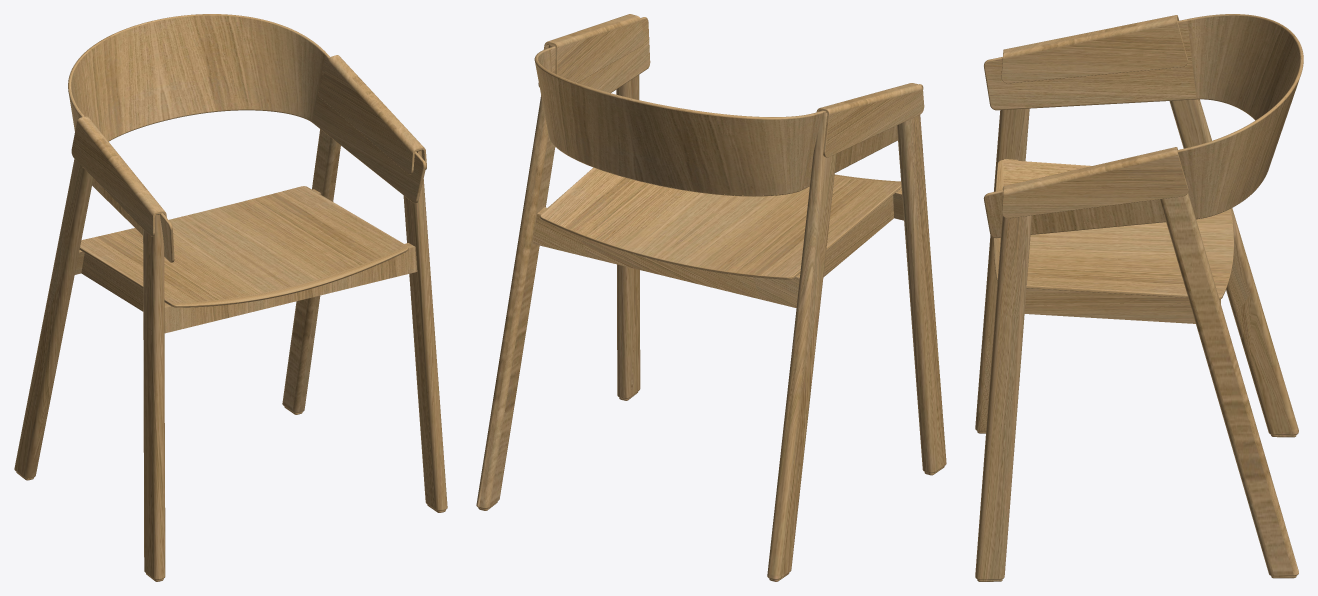
File: chair1.glb
The picture shows the model from 3 angles, left to right: view 1: azimuth 30°, elevation 25°; view 2: azimuth 150°, elevation 25°; view 3: azimuth 270°, elevation 25°; orthographic projection. The views are drawn at different scales.
Parts seen in each view (by area): view 1: Object_9, Object_6, Object_15, Object_14, Object_8, Object_11, Object_17, Object_7, Object_5, Object_23, Object_24, Object_21; view 2: Object_9, Object_17, Object_6, Object_8, Object_11, Object_7, Object_14, Object_21; view 3: Object_6, Object_10, Object_9, Object_14, Object_17, Object_8, Object_7, Object_18, Object_5, Object_20, Object_22.
Boxes of the visible parts, x1=… form: Object_9: x1=25, y1=21, x2=442, y2=510; Object_6: x1=15, y1=21, x2=447, y2=581; Object_15: x1=152, y1=15, x2=408, y2=250; Object_14: x1=71, y1=22, x2=435, y2=509; Object_8: x1=14, y1=21, x2=445, y2=579; Object_11: x1=34, y1=21, x2=426, y2=477; Object_17: x1=69, y1=15, x2=405, y2=410; Object_7: x1=16, y1=21, x2=444, y2=581; Object_5: x1=155, y1=153, x2=444, y2=579; Object_23: x1=290, y1=246, x2=407, y2=291; Object_24: x1=81, y1=54, x2=423, y2=305; Object_21: x1=68, y1=14, x2=325, y2=141; Object_9: x1=540, y1=18, x2=925, y2=473; Object_17: x1=490, y1=62, x2=828, y2=506; Object_6: x1=479, y1=14, x2=945, y2=580; Object_8: x1=479, y1=81, x2=946, y2=579; Object_11: x1=499, y1=21, x2=924, y2=499; Object_7: x1=476, y1=17, x2=944, y2=581; Object_14: x1=476, y1=16, x2=780, y2=579; Object_21: x1=536, y1=48, x2=816, y2=119; Object_6: x1=975, y1=15, x2=1302, y2=581; Object_10: x1=977, y1=21, x2=1295, y2=581; Object_9: x1=985, y1=15, x2=1302, y2=296; Object_14: x1=980, y1=15, x2=1300, y2=575; Object_17: x1=1174, y1=15, x2=1299, y2=434; Object_8: x1=975, y1=15, x2=1303, y2=579; Object_7: x1=977, y1=20, x2=1303, y2=581; Object_18: x1=1003, y1=18, x2=1200, y2=218; Object_5: x1=978, y1=216, x2=1005, y2=577; Object_20: x1=1187, y1=14, x2=1302, y2=148; Object_22: x1=1187, y1=59, x2=1303, y2=219.
Size of the model in its own units: 56.19 by 75.99 by 50.51.
2 materials, 2 textured.
